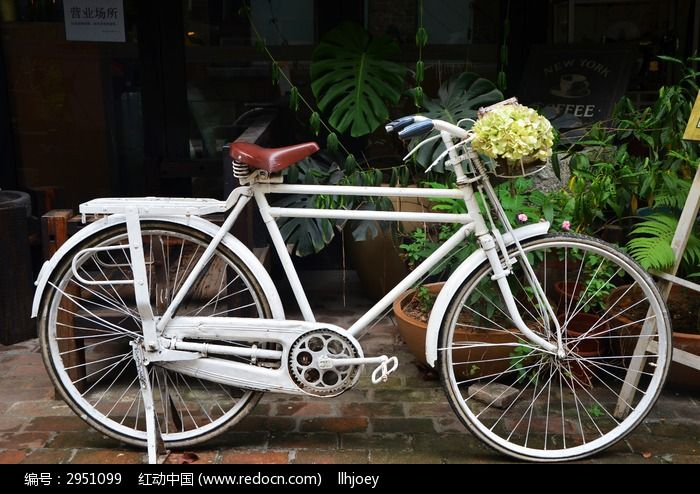MNV: (37, 117, 672, 454)
